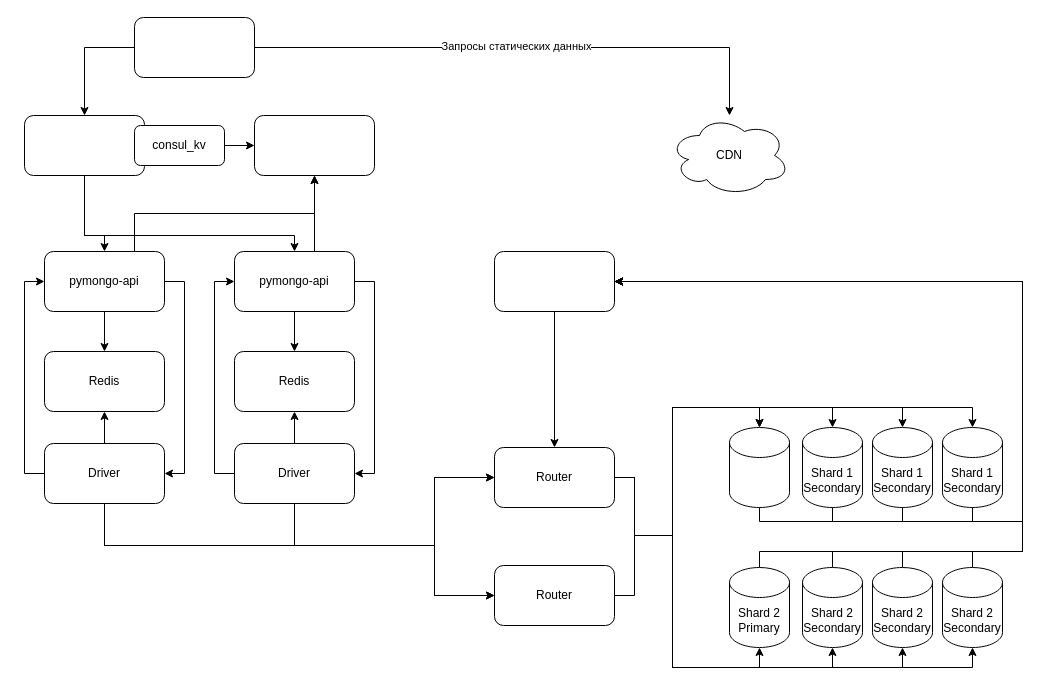
Image size: 1048x693. Some labels were removed from this diagram. The shapes that lost their labels are listed below. From the top down, each one's centre as x and y in pixels, then its label:
At point 194,47: "Frontend".
At point 84,145: "APISIX Gateway".
At point 314,145: "Consul".
At point 554,281: "Config Server".
At point 759,467: "Shard 1 Primary".
